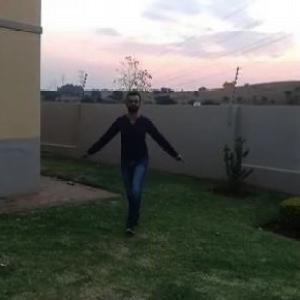land: (90, 94, 177, 217)
